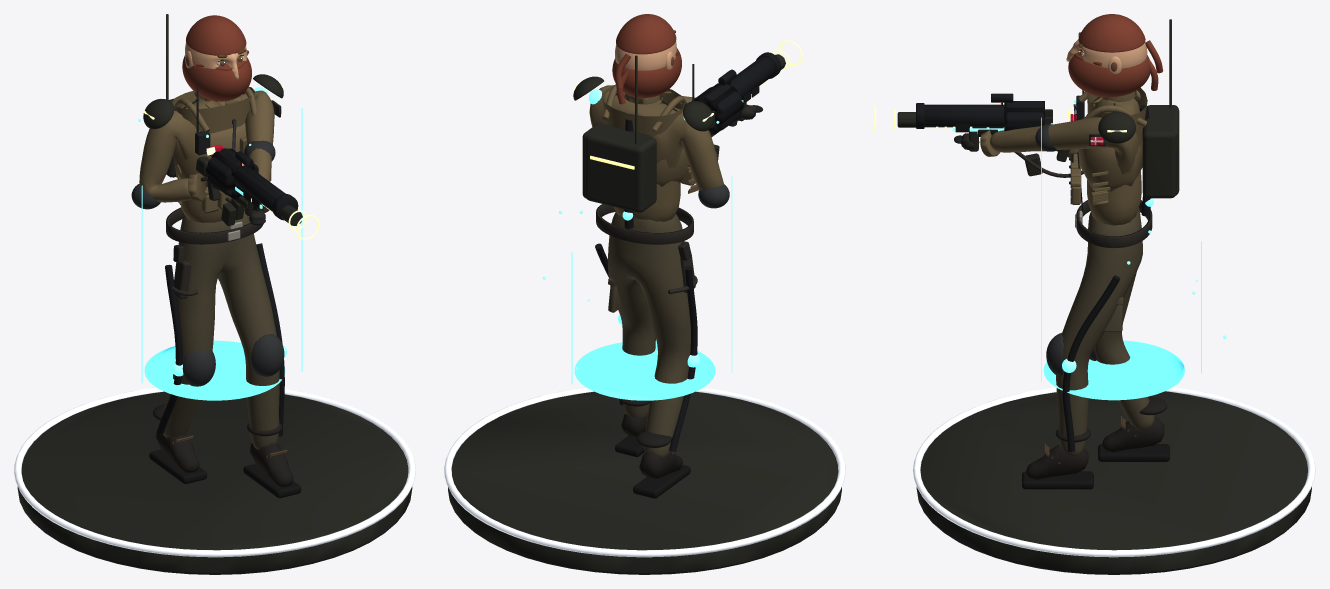
The model's file is kaster_std.glb.
The picture shows the model from 3 angles, left to right: view 1: azimuth 30°, elevation 25°; view 2: azimuth 150°, elevation 25°; view 3: azimuth 270°, elevation 25°; orthographic projection.
Parts seen in each view (by area): view 1: fod_net, menneske_net, op1_net, hoved_net, op4.001_net, vaaben_net, op4_net, op3_net, op3.001_net; view 2: fod_net, menneske_net, op4_net, op4.001_net, hoved_net, op1_net, vaaben_net, op3_net, ned4.001_net; view 3: fod_net, menneske_net, hoved_net, op1_net, op4.001_net, vaaben_net, ned4.001_net, op4_net, op3_net.
Boxes of the visible parts, x1,y1,x2,y2 form: fod_net: [14, 387, 415, 574]; menneske_net: [139, 87, 301, 498]; op1_net: [131, 86, 284, 386]; hoved_net: [182, 15, 251, 101]; op4.001_net: [138, 108, 302, 400]; vaaben_net: [196, 148, 298, 220]; op4_net: [157, 87, 286, 436]; op3_net: [143, 14, 283, 204]; op3.001_net: [221, 202, 302, 226]; fod_net: [444, 387, 845, 574]; menneske_net: [589, 85, 762, 498]; op4_net: [585, 89, 700, 451]; op4.001_net: [542, 121, 732, 400]; hoved_net: [612, 14, 681, 104]; op1_net: [596, 64, 729, 354]; vaaben_net: [694, 52, 781, 137]; op3_net: [573, 55, 713, 193]; ned4.001_net: [582, 123, 651, 198]; fod_net: [913, 387, 1315, 574]; menneske_net: [954, 87, 1169, 489]; hoved_net: [1066, 14, 1163, 97]; op1_net: [1035, 90, 1152, 375]; op4.001_net: [1041, 117, 1226, 400]; vaaben_net: [916, 93, 1068, 161]; ned4.001_net: [1092, 107, 1176, 202]; op4_net: [1062, 105, 1180, 452]; op3_net: [1098, 19, 1171, 143].
Size of the model in its own units: 1.94 by 2.53 by 2.12.
